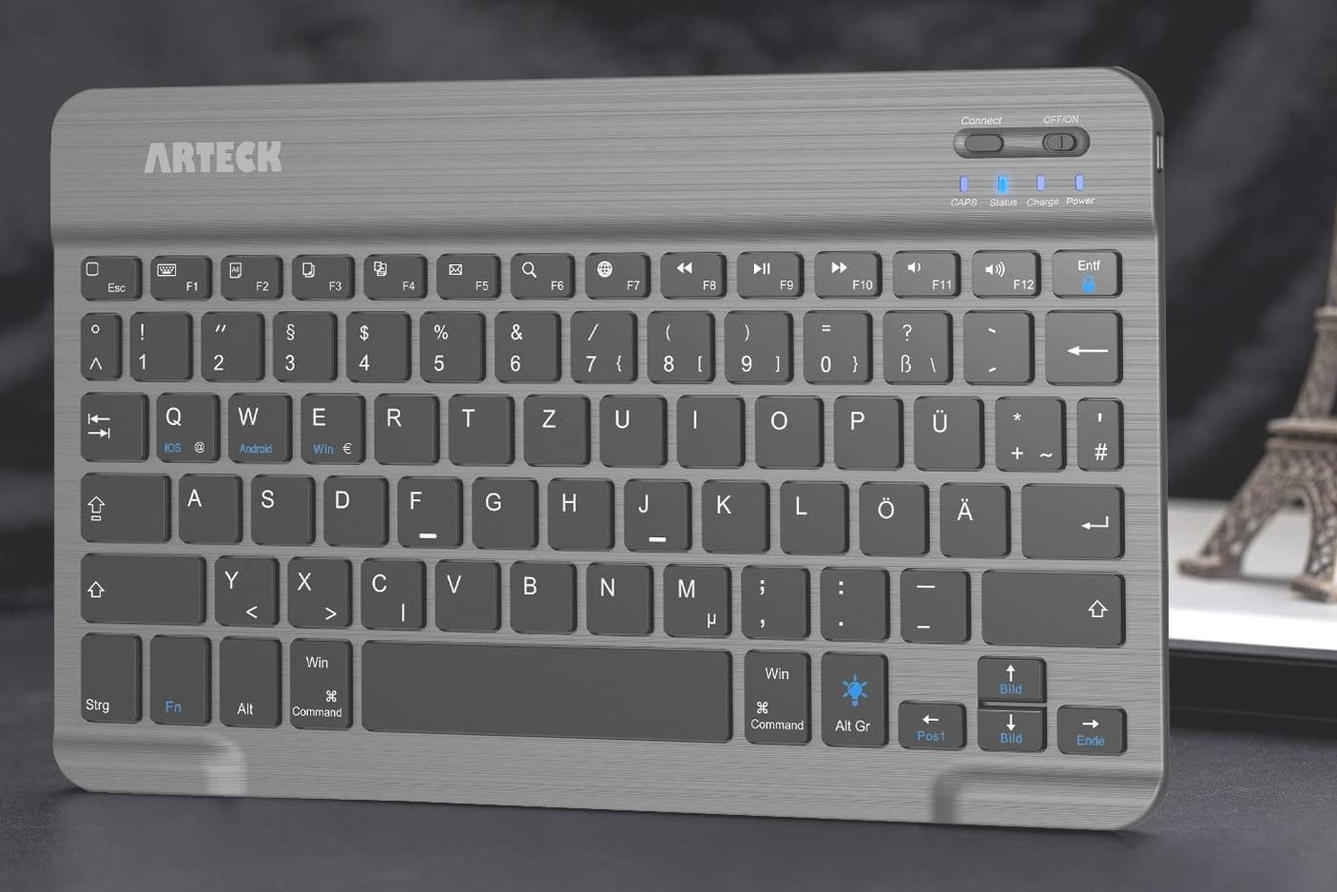0: (800, 307, 870, 383)
1: (127, 308, 189, 381)
2: (199, 308, 262, 380)
3: (270, 308, 335, 380)
4: (343, 308, 408, 381)
5: (417, 307, 482, 381)
6: (492, 307, 558, 382)
7: (569, 307, 635, 383)
8: (644, 307, 712, 383)
9: (722, 306, 790, 382)
a: (176, 470, 239, 544)
accent: (960, 306, 1031, 382)
ae: (937, 478, 1008, 556)
alt-left: (216, 634, 283, 730)
altgr-right: (819, 650, 891, 752)
b: (506, 557, 573, 631)
c: (357, 555, 424, 629)
caret: (77, 309, 122, 379)
comma: (738, 561, 807, 638)
d: (320, 472, 384, 547)
del: (1042, 307, 1124, 388)
e: (297, 389, 363, 464)
enter: (1020, 478, 1124, 558)
f: (395, 474, 458, 548)
g: (469, 474, 534, 549)
h: (545, 475, 610, 550)
hash: (1074, 394, 1124, 472)
i: (673, 390, 742, 466)
j: (622, 475, 688, 551)
k: (699, 475, 766, 553)
keyboard: (66, 230, 1140, 785)
l: (776, 476, 845, 553)
m: (659, 560, 729, 636)
minus: (895, 565, 969, 642)
n: (582, 558, 650, 634)
o: (750, 390, 821, 468)
oe: (856, 478, 926, 555)
p: (830, 391, 901, 469)
plus: (991, 391, 1063, 472)
point: (816, 563, 887, 639)
q: (152, 390, 218, 462)
r: (372, 391, 436, 464)
s: (248, 472, 311, 545)
shift-left: (78, 549, 203, 623)
shift-lock: (77, 469, 166, 542)
shift-right: (979, 565, 1126, 646)
space: (360, 640, 731, 746)
ss: (879, 306, 950, 383)
strg-left: (77, 629, 141, 724)
t: (446, 390, 512, 464)
tab: (76, 388, 148, 461)
u: (596, 390, 664, 467)
ue: (910, 391, 981, 470)
v: (432, 556, 497, 630)
w: (225, 389, 290, 462)
x: (284, 553, 348, 627)
y: (212, 552, 277, 625)
z: (520, 390, 588, 465)
